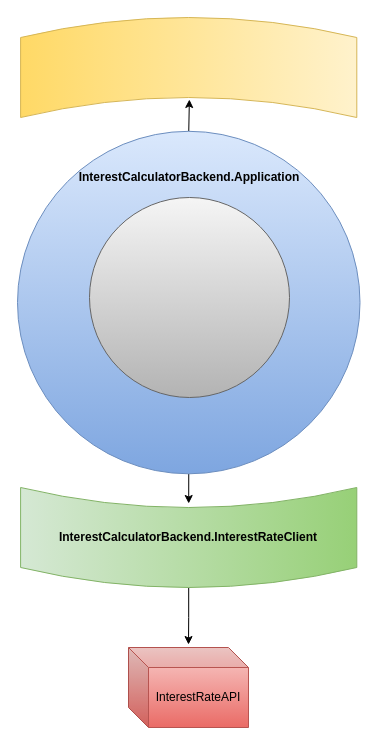
The diagram is 378 pixels wide and 745 high, and some of its shapes have lost their labels. The box of each missing label's shape, as (x1, y1, x2, y2) in pixels:
InterestCalculatorBackend.Core: (88, 196, 290, 398)
InterestCalculatorBackend.WebApi: (20, 16, 357, 118)
